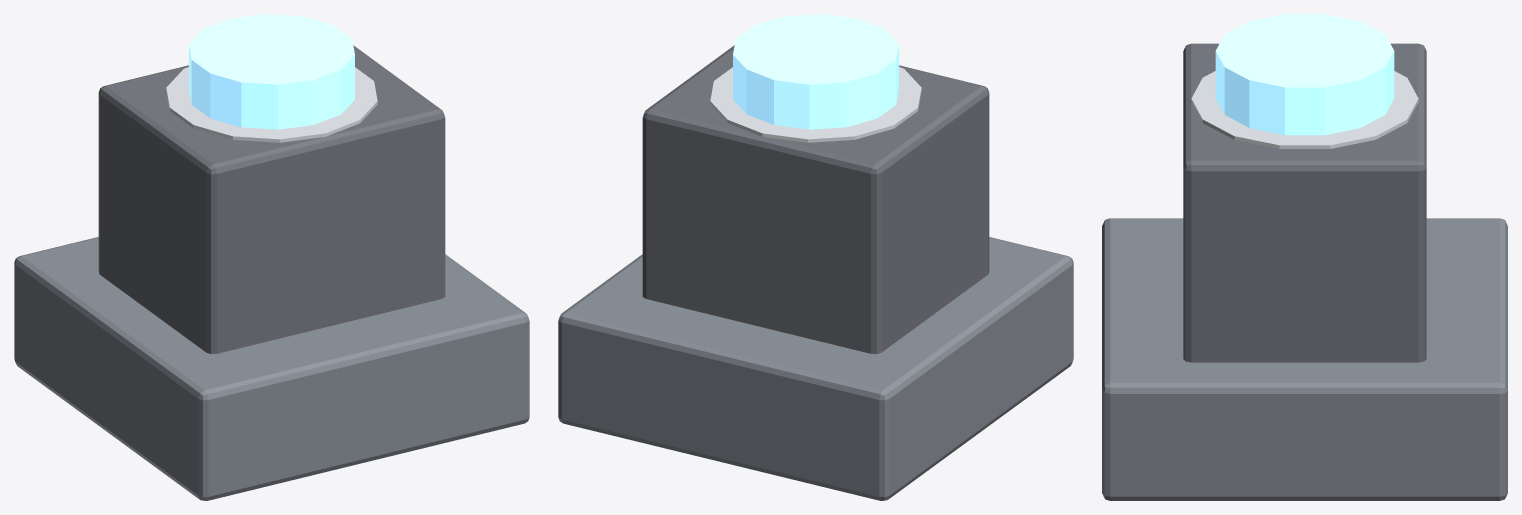
File: sensor.glb
The picture shows the model from 3 angles, left to right: view 1: azimuth 30°, elevation 25°; view 2: azimuth 150°, elevation 25°; view 3: azimuth 270°, elevation 25°; orthographic projection. The views are drawn at different scales.
Visible parts, largest first — view 1: sensor; view 2: sensor; view 3: sensor.
Part boxes in pixels (box(x1,y1,x2,y2)): sensor: box(14, 14, 529, 500); sensor: box(558, 14, 1073, 500); sensor: box(1102, 14, 1507, 500).
Bounding box in the file's own units: 0.5 × 0.5 × 0.5.
